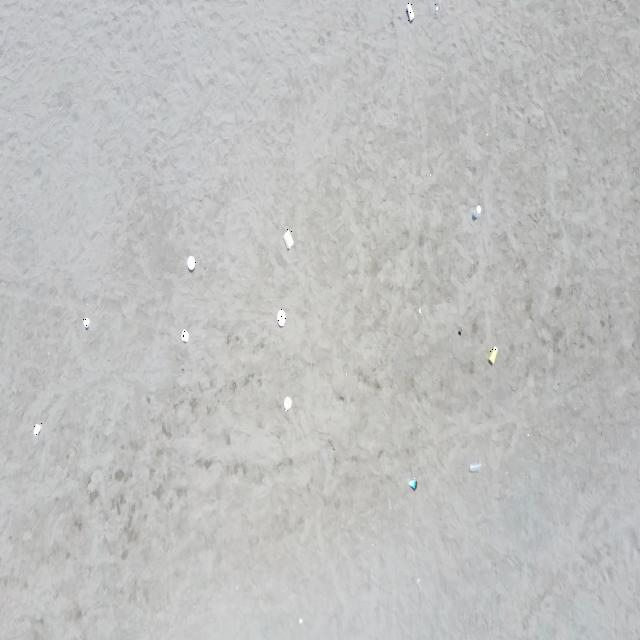take-away-containers: (283, 229, 294, 250), (277, 308, 286, 327), (187, 255, 196, 272), (34, 422, 42, 437), (182, 328, 190, 343), (284, 396, 292, 411), (83, 318, 91, 330)
takeaway-cup: (489, 346, 498, 366), (406, 2, 415, 22), (469, 460, 481, 472), (472, 204, 480, 219), (409, 478, 417, 491), (434, 3, 440, 18)
